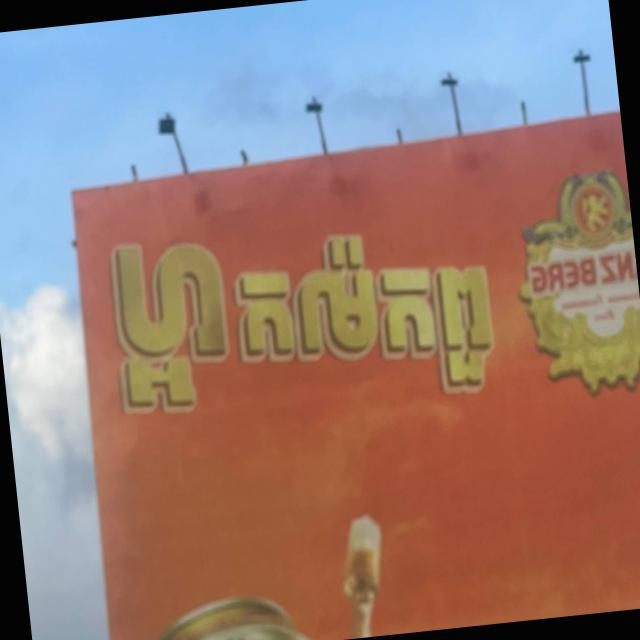Yolov11kh: (92, 219, 509, 436)
